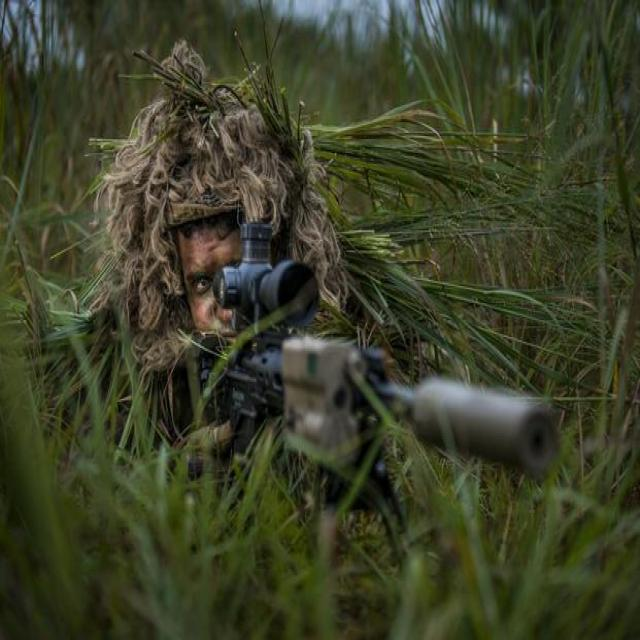weapon: (106, 219, 569, 512)
